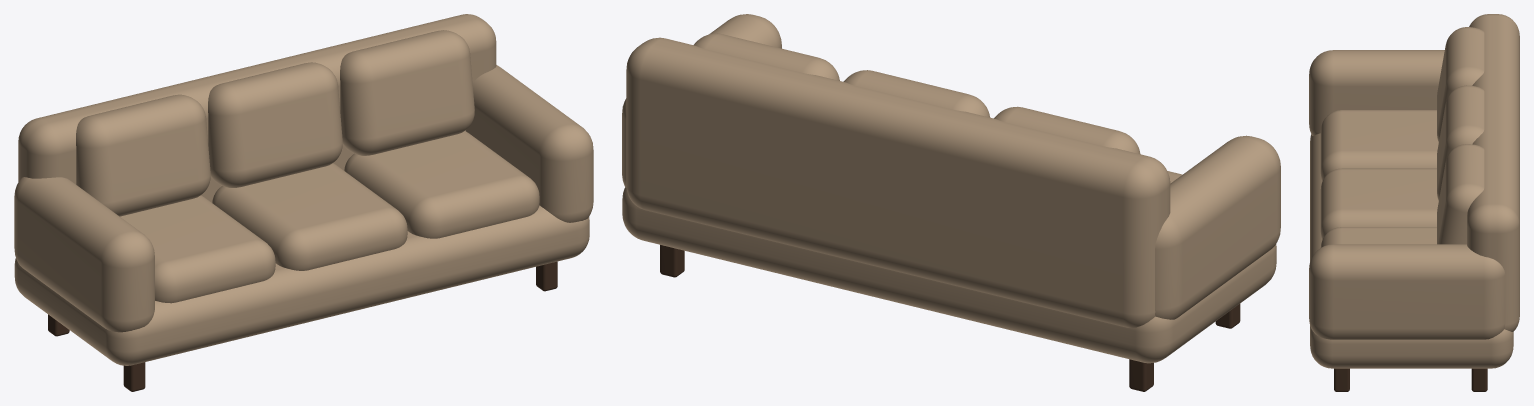
Rendered from sofa_no_pillows_warm_beige.glb.
3 renders of one model, left to right at view 1: azimuth 30°, elevation 25°; view 2: azimuth 150°, elevation 25°; view 3: azimuth 270°, elevation 25°, orthographic. The views are drawn at different scales.
Parts seen in each view (by area): view 1: Upholstered foundation, Rounded padded arm, Plush back cushion.002, Plush back cushion.001, Plush back cushion, Seat cushion.002, Seat cushion.001, Rounded padded arm.001, Padded back frame, Seat cushion, Walnut foot, Walnut foot.002; view 2: Padded back frame, Upholstered foundation, Rounded padded arm, Plush back cushion.001, Plush back cushion.002, Plush back cushion, Rounded padded arm.001, Walnut foot.001, Walnut foot.003; view 3: Rounded padded arm.001, Padded back frame, Rounded padded arm, Upholstered foundation, Seat cushion, Seat cushion.001, Plush back cushion.002, Plush back cushion.001, Plush back cushion, Seat cushion.002, Walnut foot.003, Walnut foot.002.
Boxes of the visible parts, x1,y1,x2,y2 form: Upholstered foundation: (14, 205, 589, 365); Rounded padded arm: (14, 177, 154, 332); Plush back cushion.002: (340, 30, 474, 155); Plush back cushion.001: (208, 62, 342, 187); Plush back cushion: (76, 94, 210, 216); Seat cushion.002: (344, 131, 539, 238); Seat cushion.001: (212, 163, 407, 270); Rounded padded arm.001: (466, 65, 593, 222); Padded back frame: (18, 14, 496, 202); Seat cushion: (120, 195, 275, 303); Walnut foot: (123, 362, 145, 391); Walnut foot.002: (536, 261, 557, 291); Padded back frame: (626, 37, 1170, 328); Upholstered foundation: (622, 187, 1276, 363); Rounded padded arm: (1155, 135, 1280, 319); Plush back cushion.001: (843, 70, 990, 117); Plush back cushion.002: (693, 33, 839, 80); Plush back cushion: (994, 106, 1140, 154); Rounded padded arm.001: (622, 14, 781, 187); Walnut foot.001: (1129, 359, 1153, 391); Walnut foot.003: (660, 245, 684, 277); Rounded padded arm.001: (1309, 244, 1505, 339); Padded back frame: (1467, 14, 1519, 331); Rounded padded arm: (1309, 50, 1444, 135); Upholstered foundation: (1310, 133, 1513, 368); Seat cushion: (1320, 110, 1438, 181); Seat cushion.001: (1320, 168, 1438, 239); Plush back cushion.002: (1437, 144, 1484, 244); Plush back cushion.001: (1437, 85, 1484, 200); Plush back cushion: (1437, 27, 1484, 142); Seat cushion.002: (1320, 227, 1436, 247); Walnut foot.003: (1471, 368, 1487, 391); Walnut foot.002: (1334, 368, 1349, 391).
Size of the model in its own units: 2.42 by 0.9999 by 0.995.
